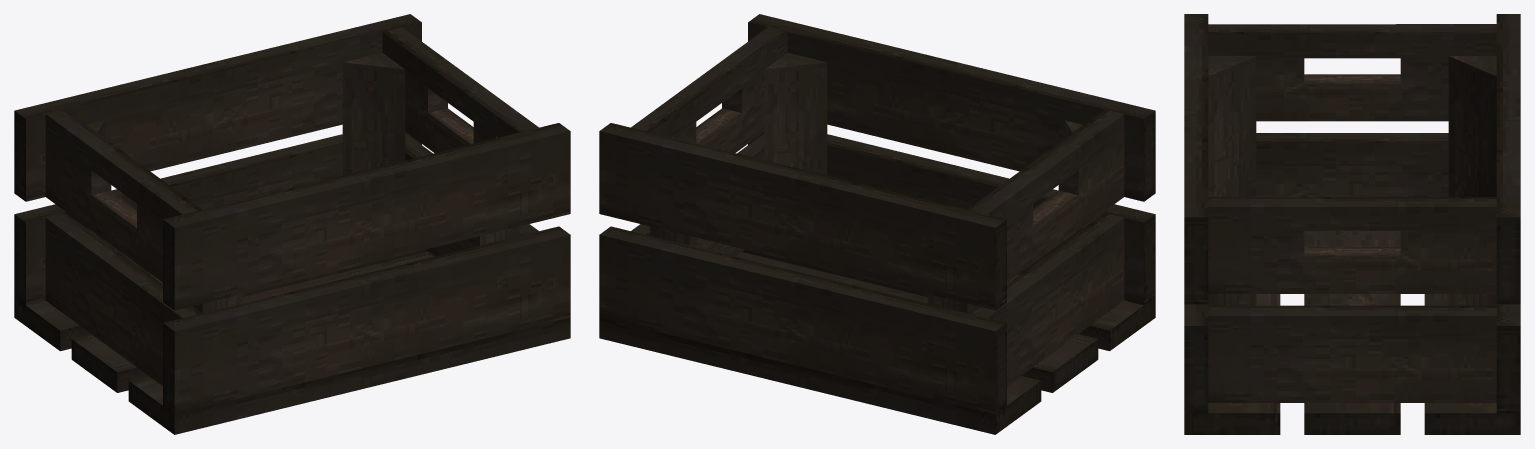
Rendered from crate.glb.
The picture shows the model from 3 angles, left to right: view 1: azimuth 30°, elevation 25°; view 2: azimuth 150°, elevation 25°; view 3: azimuth 270°, elevation 25°; orthographic projection. The views are drawn at different scales.
Visible parts, largest first — view 1: wooden_crate_1; view 2: wooden_crate_1; view 3: wooden_crate_1.
Part boxes in pixels (x1,y1,x2,y2): wooden_crate_1: (14,14,570,434); wooden_crate_1: (599,14,1155,434); wooden_crate_1: (1184,14,1520,434).
Bounding box in the file's own units: 0.72 × 0.3601 × 0.504.
1 material, 1 textured.
